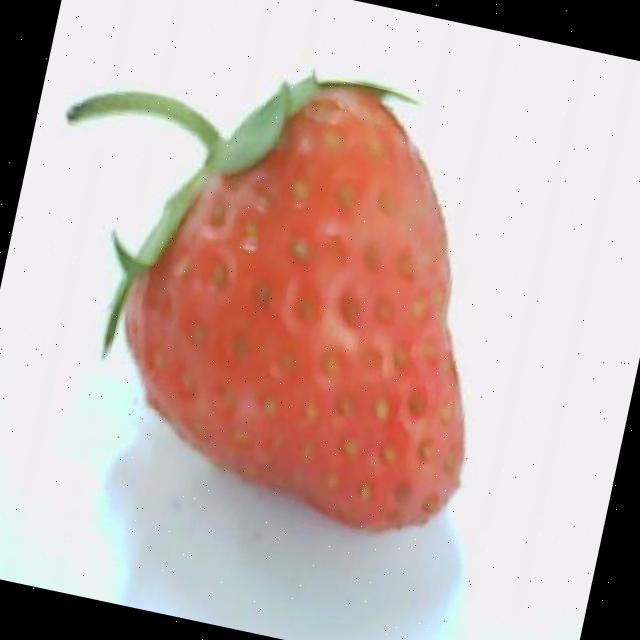strawberry: (67, 73, 463, 529)
